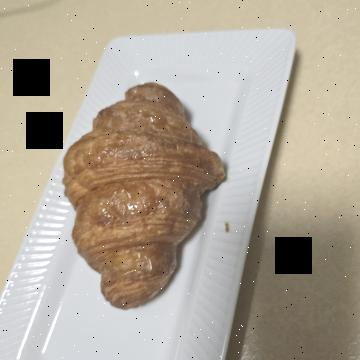croissant: (73, 132, 318, 309)
